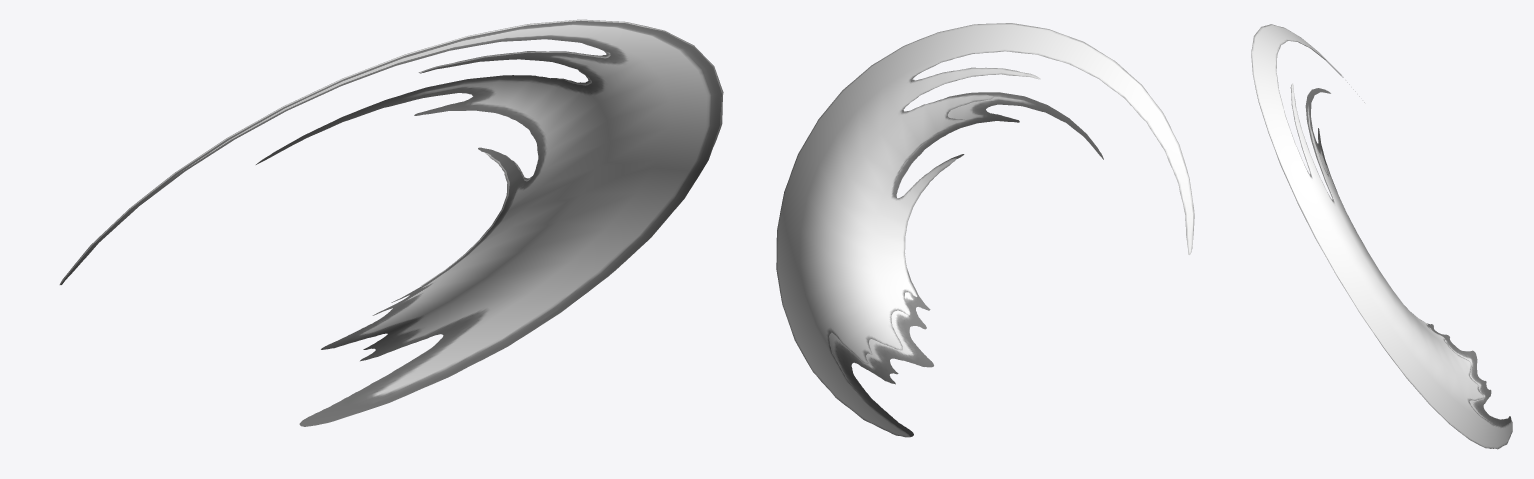
File: fx_m10317_skill01.fbx
3 renders of one model, left to right at view 1: azimuth 30°, elevation 25°; view 2: azimuth 150°, elevation 25°; view 3: azimuth 270°, elevation 25°, orthographic. The views are drawn at different scales.
Parts seen in each view (by area): view 1: trail_alpha, trail_add; view 2: trail_add, trail_alpha; view 3: trail_add, trail_alpha.
Boxes of the visible parts, <box> form: trail_alpha: <box>61,20,721,426</box>; trail_add: <box>59,19,723,423</box>; trail_add: <box>776,23,1194,437</box>; trail_alpha: <box>829,92,1103,436</box>; trail_add: <box>1251,24,1512,449</box>; trail_alpha: <box>1254,42,1511,434</box>.
Size of the model in its own units: 949 by 750 by 488.
